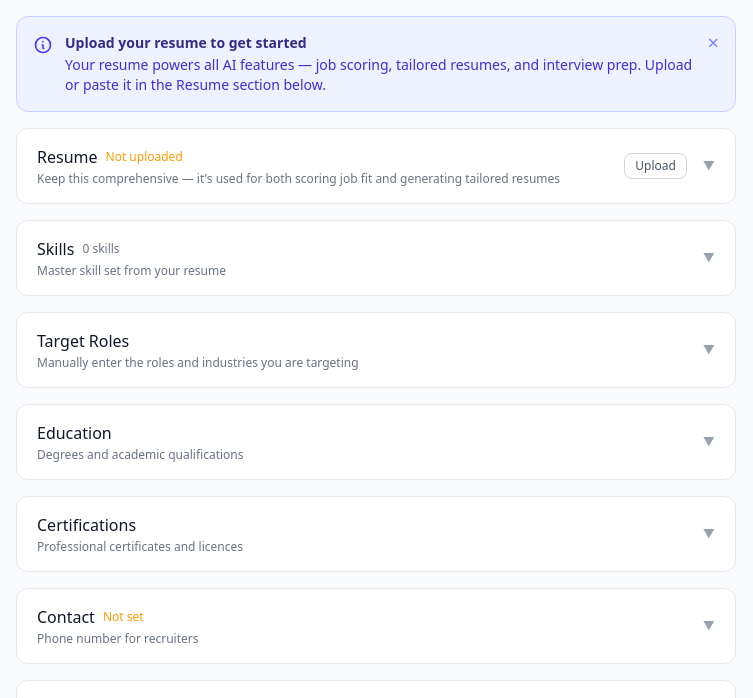
Scenario: ProfilePanel resume banner › dismisses the banner when × is clicked
The width and height of the screenshot is (753, 698).
Expected: the text "Upload your resume to get started" is shown, x1=65 y1=33 x2=307 y2=52
Click the button named "Dismiss" at (713, 43), box x1=708 y1=33 x2=719 y2=53
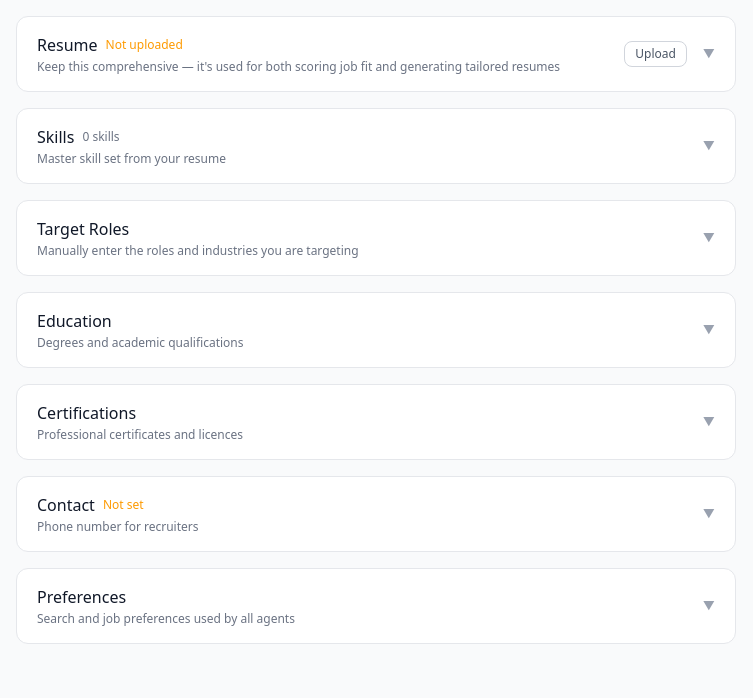
Expected: the text "Upload your resume to get started" is gone
